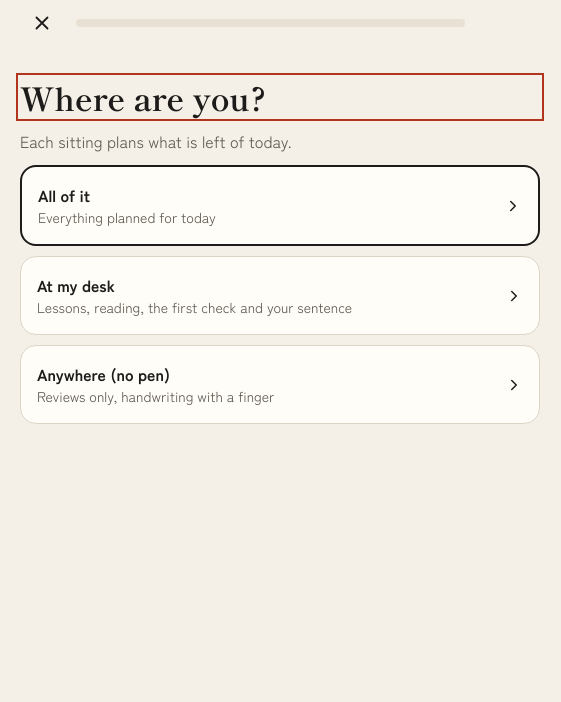
Test: Session, QA round 2 › asks a kanji write card before its anchor’s cards, with the anchor’s reading and audio kept back (V039)
Click the button "At my desk".
click(280, 296)  # box 20,256 -> 540,335
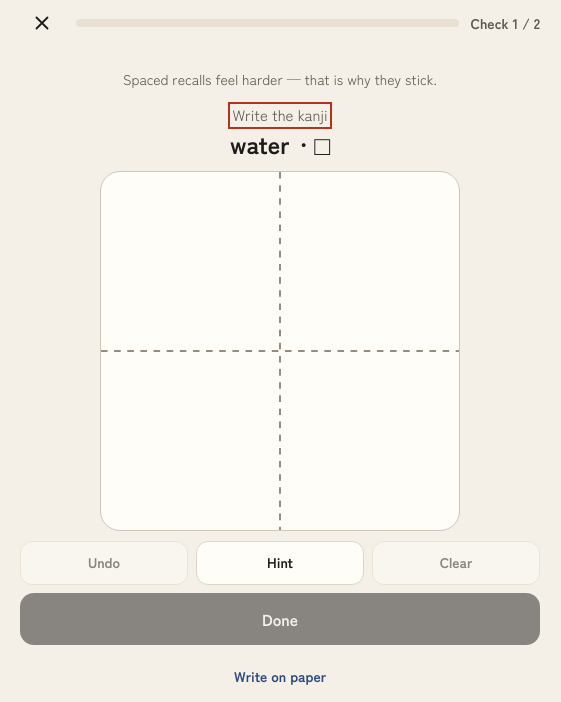
Expected: the heading "Write the kanji" is shown, 232,106 -> 328,125
Expected: the text "water" is shown, 230,128 -> 289,159
